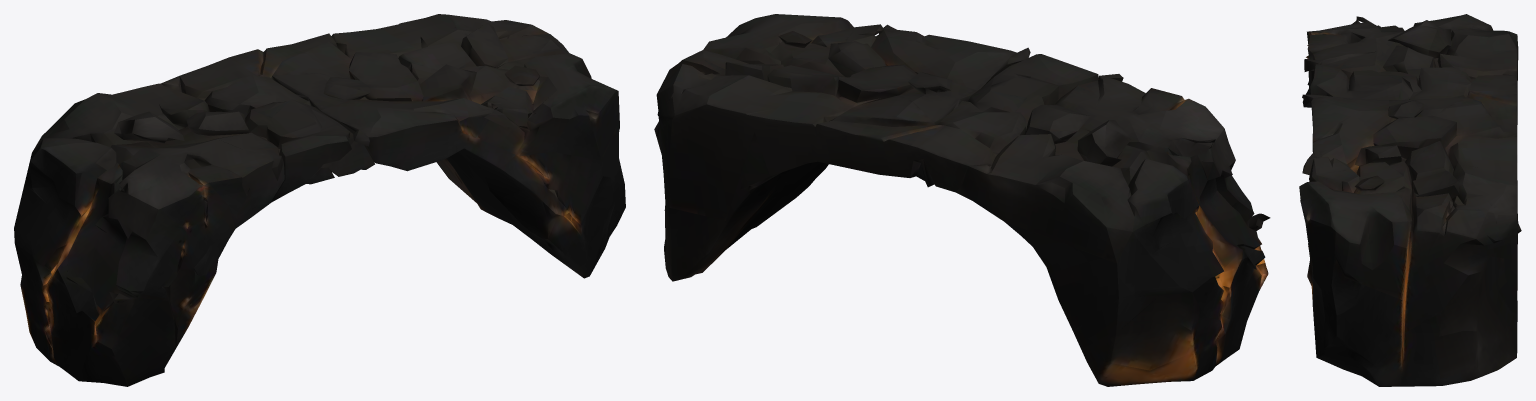
Rendered from m2BasaltBridge.glb.
The picture shows the model from 3 angles, left to right: view 1: azimuth 30°, elevation 25°; view 2: azimuth 150°, elevation 25°; view 3: azimuth 270°, elevation 25°; orthographic projection. The views are drawn at different scales.
Parts seen in each view (by area): view 1: model; view 2: model; view 3: model.
Boxes of the visible parts, x1,y1,x2,y2 form: model: (14,14,625,386); model: (654,14,1270,386); model: (1299,14,1521,386).
Size of the model in its own units: 1.91 by 0.7447 by 0.7965.
1 material, 1 textured.
